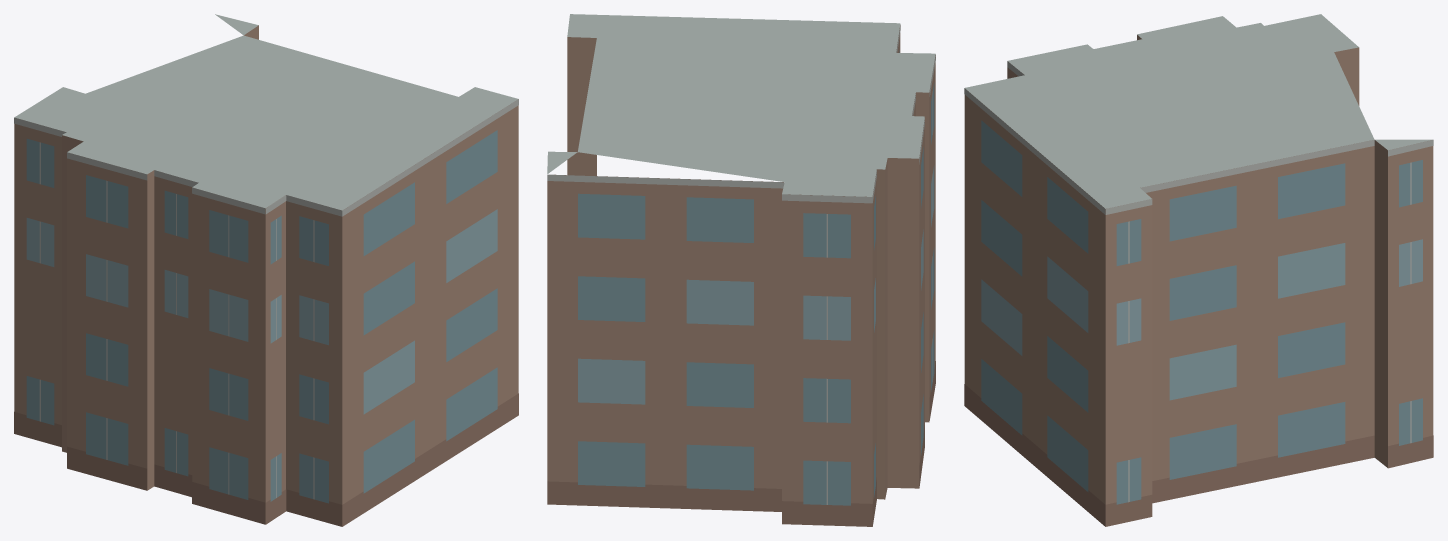
Rendered from survey-upis-32915053.glb.
3 views of the same model, side by side, from view 1: azimuth 30°, elevation 25°; view 2: azimuth 150°, elevation 25°; view 3: azimuth 270°, elevation 25° (orthographic). The views are drawn at different scales.
Parts seen in each view (by area): view 1: survey-upis-32915053.tmp; view 2: survey-upis-32915053.tmp; view 3: survey-upis-32915053.tmp.
Part boxes in pixels (x1,y1,x2,y2): survey-upis-32915053.tmp: (14, 14, 518, 526); survey-upis-32915053.tmp: (547, 14, 935, 526); survey-upis-32915053.tmp: (964, 14, 1433, 526).
Bounding box in the file's own units: 16.41 × 12.48 × 16.69.
